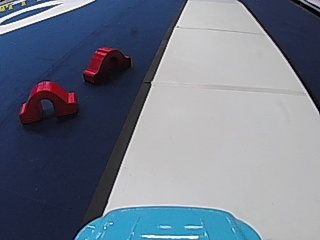bridge: (16, 77, 78, 124), (81, 42, 133, 85)
